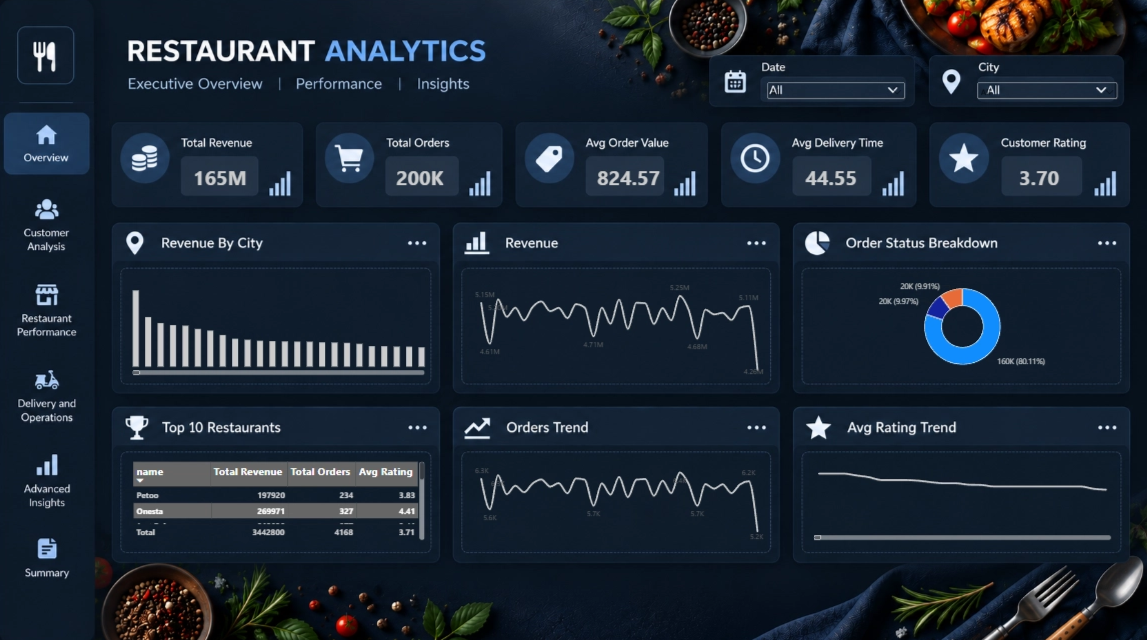

The dashboard page shown, as its layout file describes it:
{"tool":"powerbi","page":{"name":"EXECUTIVE OVERVIEW DASHBOARD","canvas":[1920,1080],"ordinal":0},"visuals":[{"type":"cardVisual","title":"Total Revenue","fields":{"Data":["Orders.Total Revenue"]},"box":[304.2,262.5,131.2,70.8],"z":0},{"type":"cardVisual","title":"Total Orders","fields":{"Data":["Orders.Total Orders"]},"box":[643.8,262.5,118.8,70.8],"z":1000},{"type":"cardVisual","title":"Avg Order value","fields":{"Data":["Orders.Avg Order Value"]},"box":[981.2,270.8,139.6,54.2],"z":2000},{"type":"cardVisual","title":"Avg delivery time","fields":{"Data":["Orders.Avg Delivery Time"]},"box":[1318.8,270.8,139.6,54.2],"z":3000},{"type":"columnChart","title":"Revenue By City","fields":{"Category":["Restaurants.City Group"],"Y":["Orders.Total Revenue"]},"box":[208.3,452.1,518.8,191.7],"z":4000},{"type":"lineChart","title":"Revenue Trend","fields":{"Category":["DateTable.Date.Variation.Date Hierarchy.Year","DateTable.Date.Variation.Date Hierarchy.Quarter","DateTable.Date.Variation.Date Hierarchy.Month"],"Y":["Orders.Total Revenue"]},"box":[779.2,454.2,512.5,189.6],"z":5000},{"type":"lineChart","title":"Orders Trend","fields":{"Category":["DateTable.Date.Variation.Date Hierarchy.Year","DateTable.Date.Variation.Date Hierarchy.Quarter","DateTable.Date.Variation.Date Hierarchy.Month"],"Y":["Orders.Total Orders"]},"box":[779.2,758.3,512.5,160.4],"z":6000},{"type":"donutChart","title":"Order status breakdown","fields":{"Category":["Orders.OrderStatus"],"Y":["Orders.Total Orders"]},"box":[1343.8,452.1,527.1,191.7],"z":7000},{"type":"tableEx","title":"Top 10 Restaurants","fields":{"Values":["Restaurants.name","Orders.Total Revenue","Orders.Total Orders","Orders.Avg Rating"]},"box":[208.3,758.3,518.8,160.4],"z":8000},{"type":"slicer","title":"Order status breakdown","fields":{"Values":["Customers.FilterCity"]},"box":[1627.1,135.4,243.8,37.5],"z":9000},{"type":"lineChart","title":"Revenue Trend","fields":{"Category":["Restaurants.name"],"Y":["Orders.Avg Rating"]},"box":[1343.8,758.3,527.1,160.4],"z":10000},{"type":"cardVisual","title":"Avg delivery time","fields":{"Data":["Orders.Avg Rating"]},"box":[1664.6,270.8,141.7,54.2],"z":11000},{"type":"slicer","title":"Order status breakdown","fields":{"Values":["DateTable.Date.Variation.Date Hierarchy.Year","DateTable.Date.Variation.Date Hierarchy.Quarter","DateTable.Date.Variation.Date Hierarchy.Month","DateTable.Date.Variation.Date Hierarchy.Day"]},"box":[1277.1,135.4,239.6,37.5],"z":12000}]}

Visuals, with their boxes on the page's 1920x1080 design canvas (x1, y1, x2, y2). These are canvas units, not pixel positions in the 1147x640 screenshot, which may show the page scaled, cropped or inside an application window:
"Total Revenue" cardVisual: left=304, top=262, right=435, bottom=333
"Total Orders" cardVisual: left=644, top=262, right=763, bottom=333
"Avg Order value" cardVisual: left=981, top=271, right=1121, bottom=325
"Avg delivery time" cardVisual: left=1319, top=271, right=1458, bottom=325
"Revenue By City" columnChart: left=208, top=452, right=727, bottom=644
"Revenue Trend" lineChart: left=779, top=454, right=1292, bottom=644
"Orders Trend" lineChart: left=779, top=758, right=1292, bottom=919
"Order status breakdown" donutChart: left=1344, top=452, right=1871, bottom=644
"Top 10 Restaurants" tableEx: left=208, top=758, right=727, bottom=919
"Order status breakdown" slicer: left=1627, top=135, right=1871, bottom=173
"Revenue Trend" lineChart: left=1344, top=758, right=1871, bottom=919
"Avg delivery time" cardVisual: left=1665, top=271, right=1806, bottom=325
"Order status breakdown" slicer: left=1277, top=135, right=1517, bottom=173
